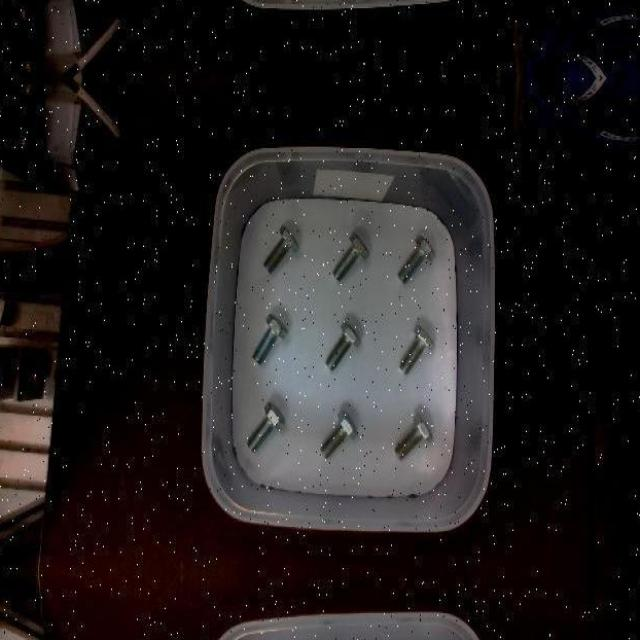screw: (332, 232, 370, 282), (398, 234, 436, 283), (247, 402, 284, 452), (394, 411, 433, 458), (324, 320, 361, 369), (252, 312, 288, 362), (399, 324, 435, 374), (320, 408, 357, 456), (264, 224, 300, 272)
